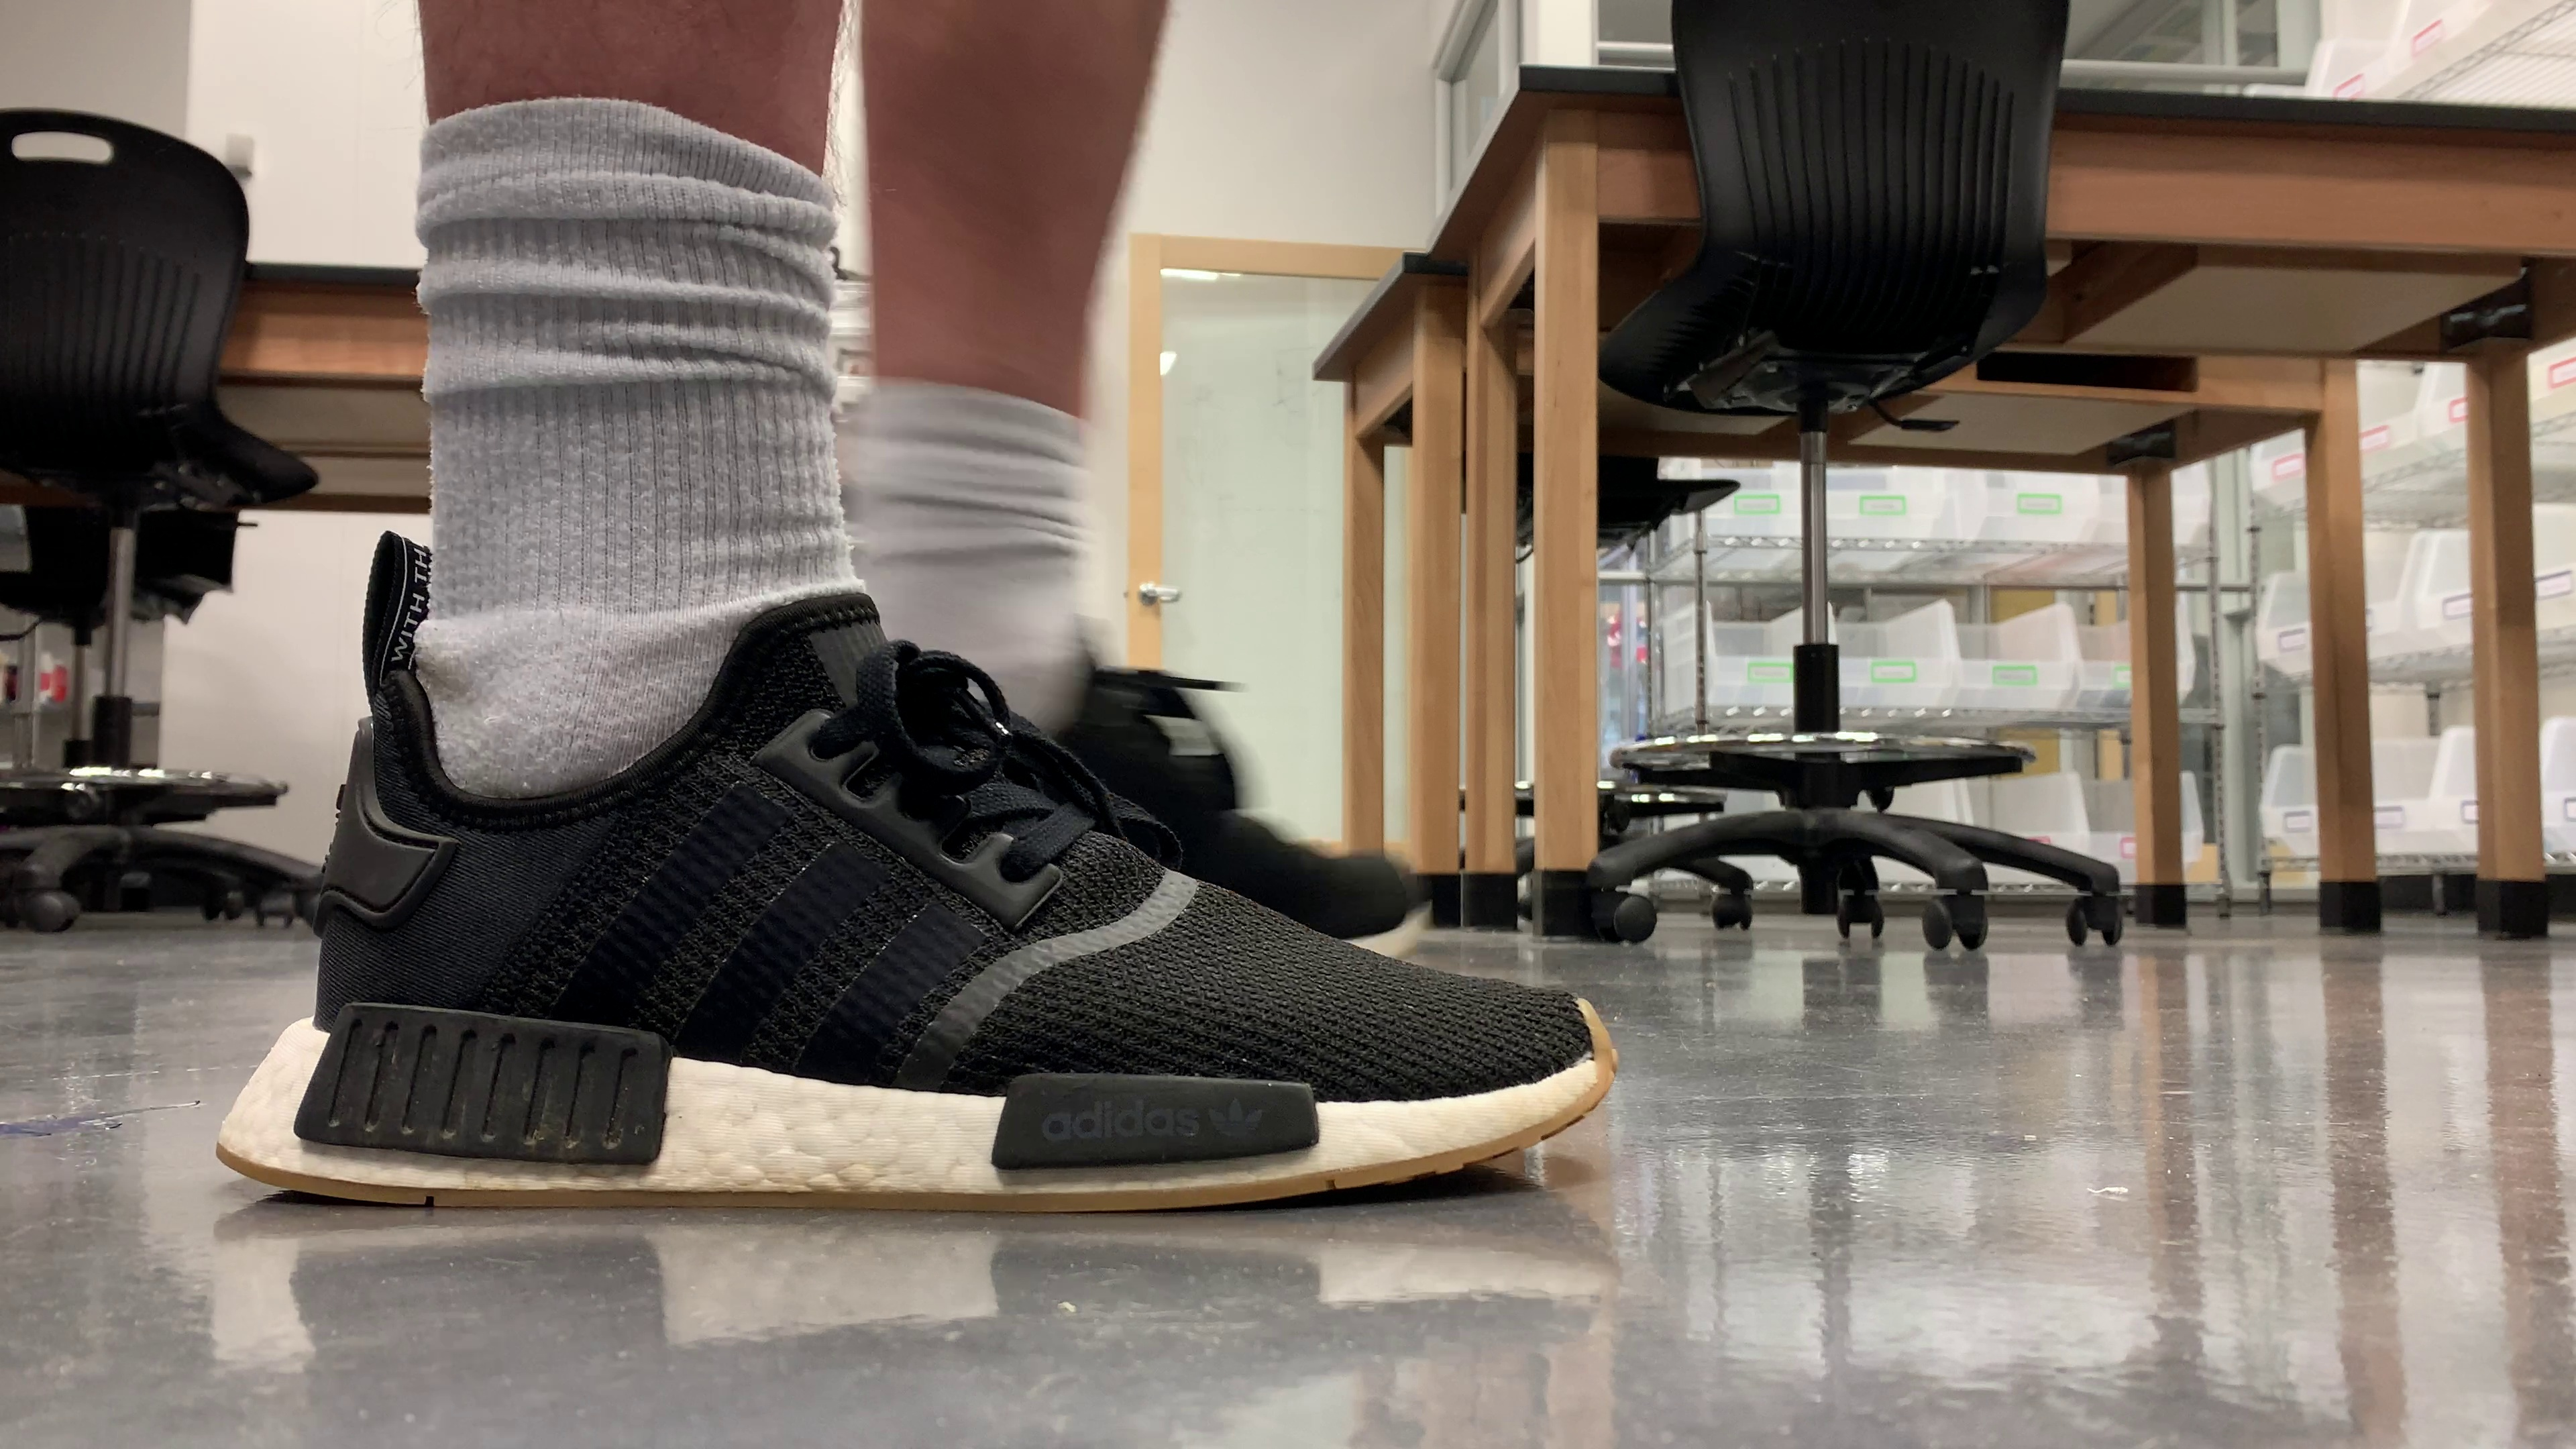shoe: (216, 593, 1619, 1208)
